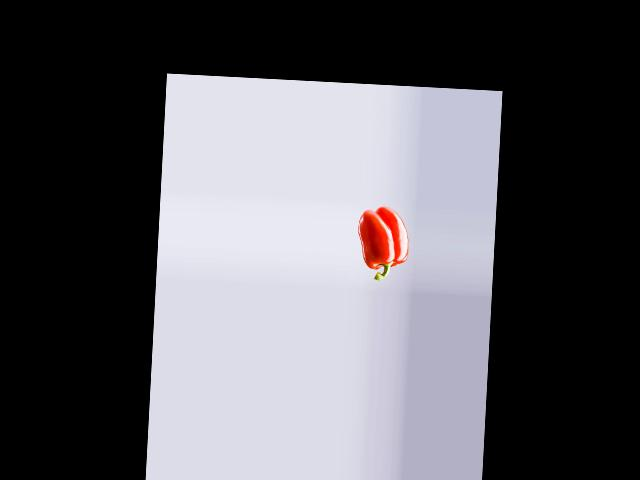bell_pepper: (354, 207, 412, 282)
